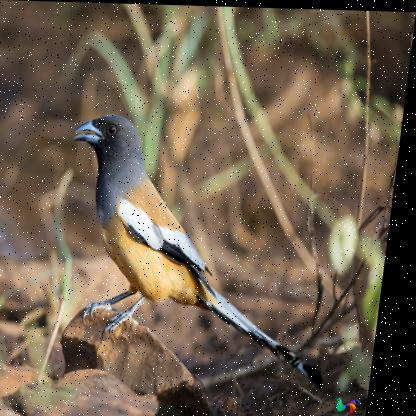Burung: (52, 113, 358, 384)
